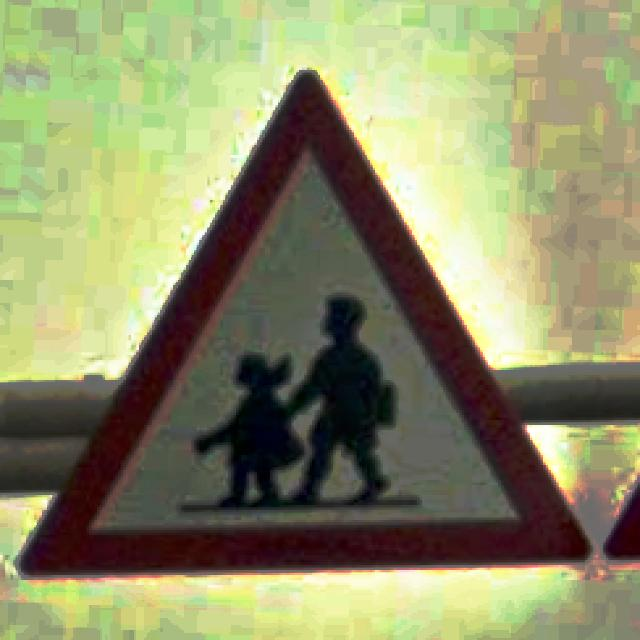childrencross: (21, 70, 592, 575)
